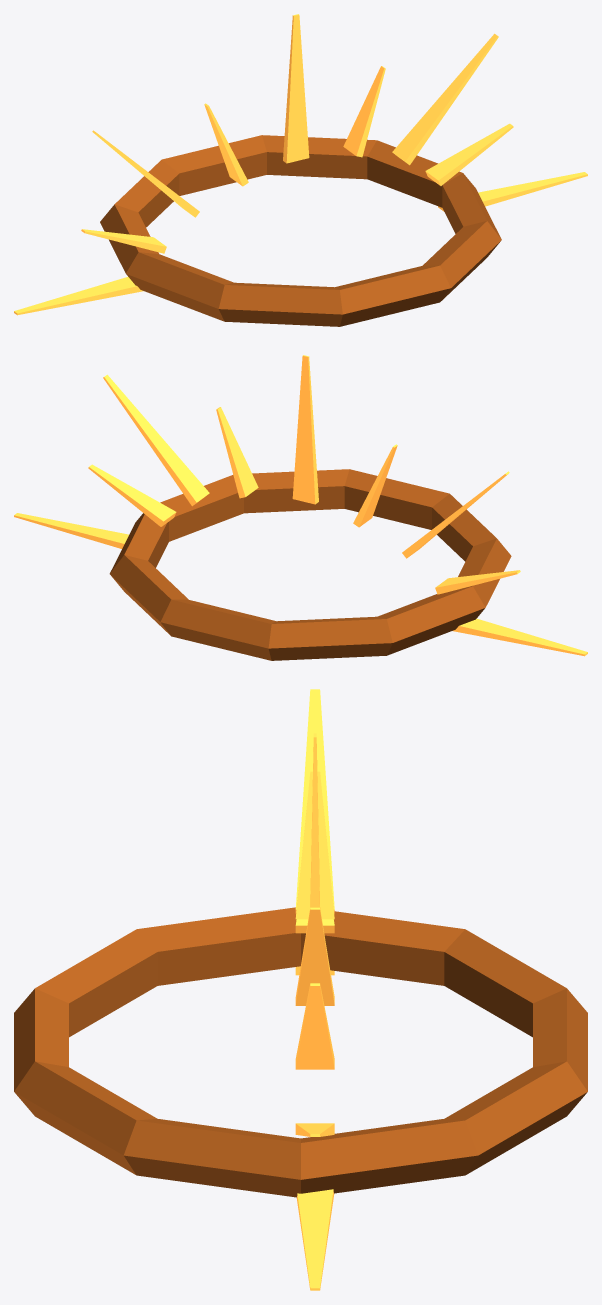
Rendered from crest_duskfire.glb.
3 renders of one model, top to bottom at view 1: azimuth 30°, elevation 25°; view 2: azimuth 150°, elevation 25°; view 3: azimuth 270°, elevation 25°, orthographic. The views are drawn at different scales.
Parts seen in each view (by area): view 1: Crest_duskfire; view 2: Crest_duskfire; view 3: Crest_duskfire.
Part boxes in pixels (x1,y1,x2,y2): Crest_duskfire: (14,14,587,326); Crest_duskfire: (14,355,587,660); Crest_duskfire: (14,689,587,1290).
Bounding box in the file's own units: 1.39 × 0.5408 × 0.8084.
